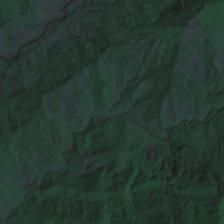landslides: (36, 43, 49, 63), (70, 26, 83, 36), (50, 33, 61, 44), (24, 53, 34, 64)
